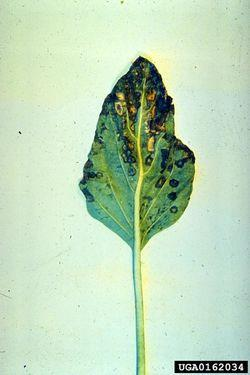Tomato leaf late blight: (78, 49, 203, 256)
